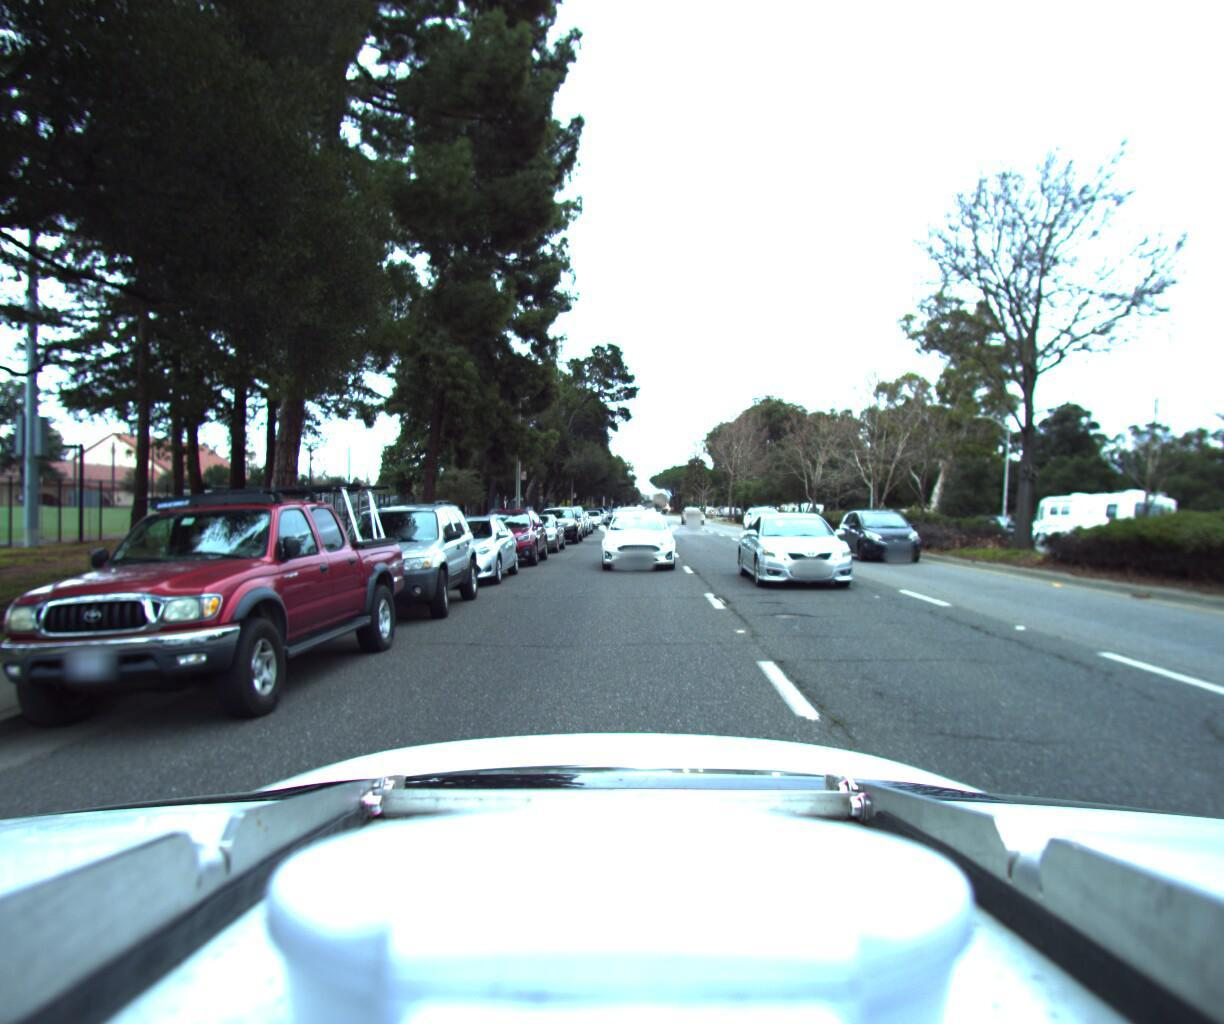car: (0, 463, 420, 758), (295, 493, 482, 629), (740, 505, 882, 599), (404, 510, 521, 591), (839, 503, 947, 563), (462, 499, 546, 567), (597, 503, 673, 568), (501, 505, 568, 551), (533, 498, 582, 541), (742, 496, 790, 534), (548, 497, 587, 533), (558, 502, 593, 530), (578, 502, 604, 522), (680, 501, 705, 521)
other_vehicle: (1026, 480, 1184, 552)
